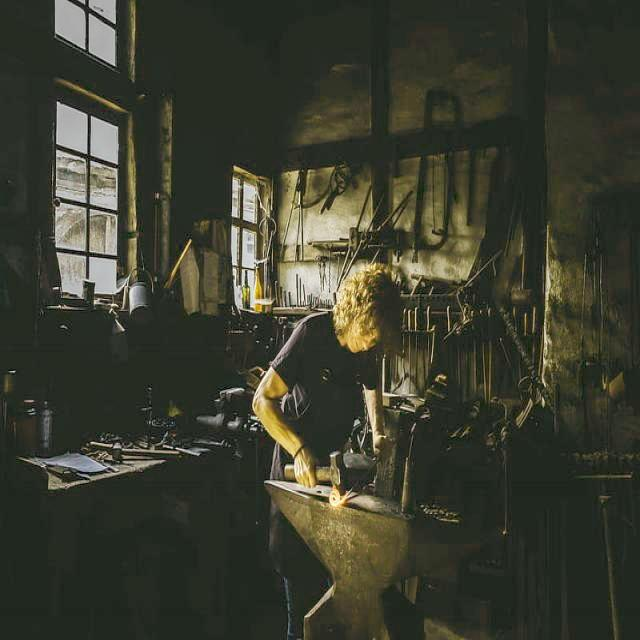hammer: (275, 438, 354, 493)
